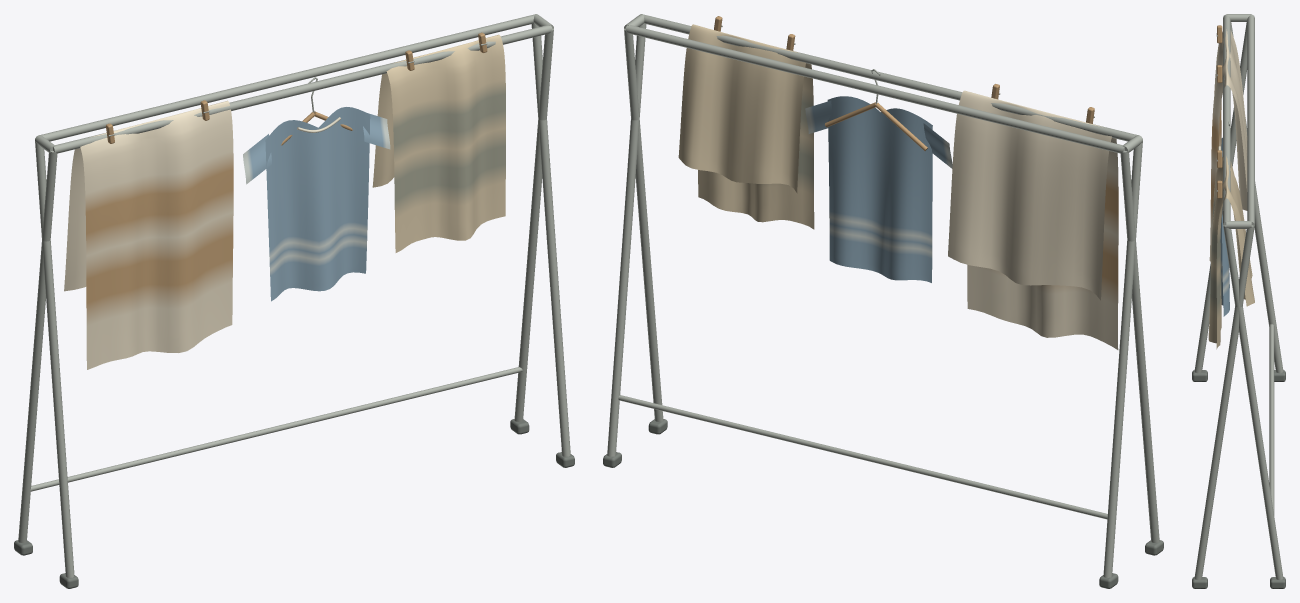
The model's file is family-linen-rail-v1.glb.
3 views of the same model, side by side, from view 1: azimuth 30°, elevation 25°; view 2: azimuth 150°, elevation 25°; view 3: azimuth 270°, elevation 25° (orthographic). The views are drawn at different scales.
Visible parts, largest first — view 1: Turned linen (×2), Little striped top, Slim folding leg (×4), Hanging rail (×2), Foot brace, Short sleeve; view 2: Turned linen (×2), Little striped top, Slim folding leg (×4), Hanging rail (×2), Foot brace; view 3: Slim folding leg (×4), Turned linen (×2), Hanging rail (×2), Foot brace, Little striped top, Quiet floor shoe (×3), End saddle (×2).
Boxes of the visible parts, box(x1,y1,x2,y2) form: Turned linen (×2): box(64, 34, 505, 369); Little striped top: box(265, 107, 370, 301); Slim folding leg (×4): box(18, 23, 570, 577); Hanging rail (×2): box(40, 14, 552, 153); Foot brace: box(30, 367, 522, 491); Short sleeve: box(243, 134, 271, 184); Turned linen (×2): box(678, 24, 1118, 349); Little striped top: box(827, 96, 932, 282); Slim folding leg (×4): box(607, 23, 1159, 577); Hanging rail (×2): box(625, 14, 1137, 153); Foot brace: box(618, 395, 1107, 519); Slim folding leg (×4): box(1194, 22, 1283, 579); Turned linen (×2): box(1208, 29, 1254, 349); Hanging rail (×2): box(1223, 14, 1254, 225); Foot brace: box(1269, 324, 1274, 515); Little striped top: box(1220, 137, 1229, 316); Quiet floor shoe (×3): box(1192, 370, 1285, 588); End saddle (×2): box(1226, 14, 1251, 228).
Size of the model in its own units: 1.45 by 1.2 by 0.272.
